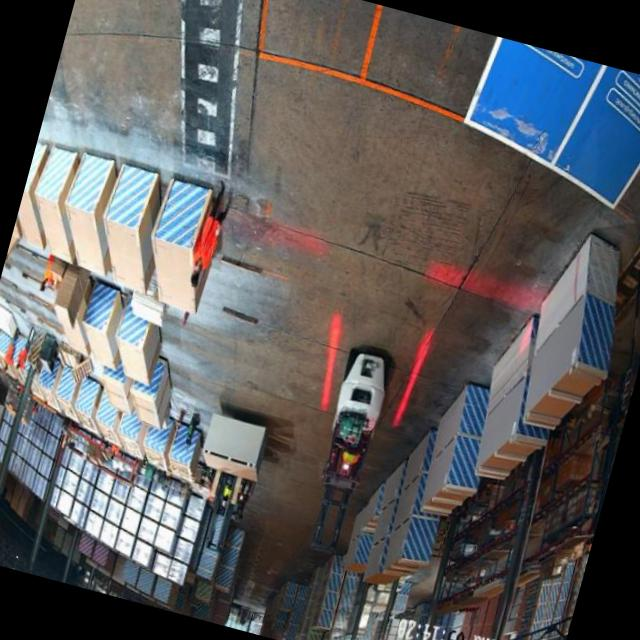driver: (335, 444, 362, 476)
forklift: (290, 336, 404, 567), (198, 464, 260, 534)
person: (180, 178, 242, 296), (14, 327, 36, 373), (38, 258, 56, 293)
